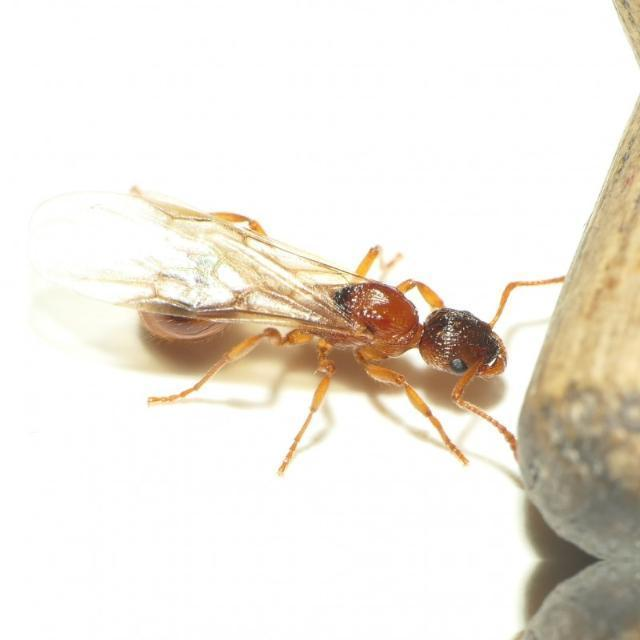Myrmica: (117, 198, 568, 422)
